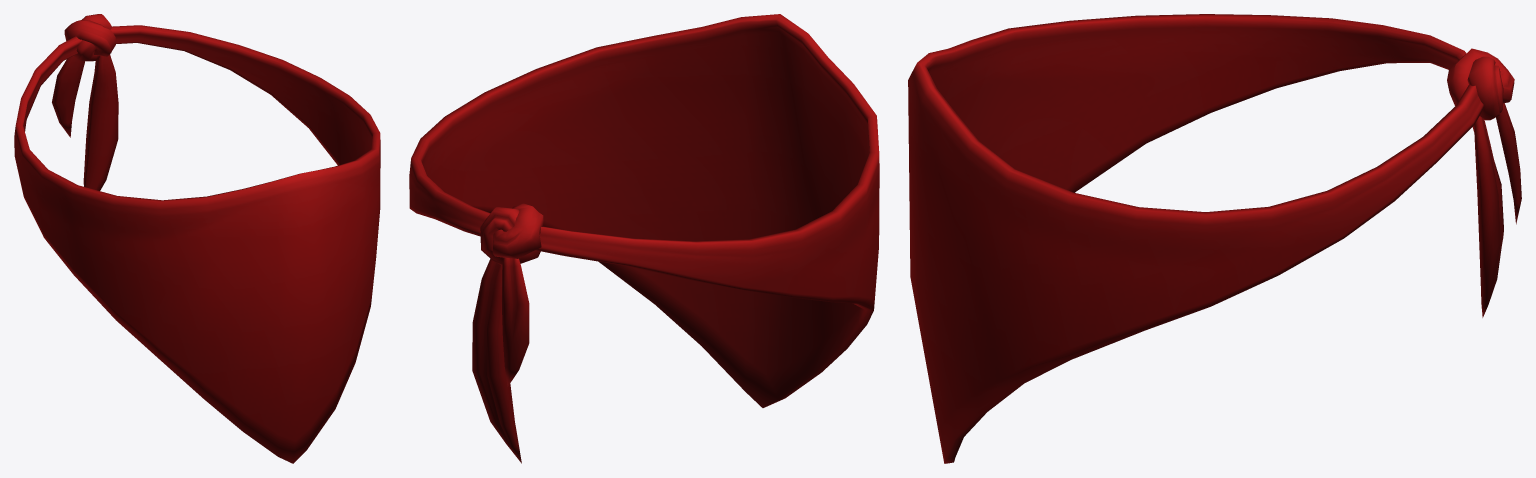
File: Bandana.FBX
3 renders of one model, left to right at view 1: azimuth 30°, elevation 25°; view 2: azimuth 150°, elevation 25°; view 3: azimuth 270°, elevation 25°, orthographic. The views are drawn at different scales.
Visible parts, largest first — view 1: Bandana; view 2: Bandana; view 3: Bandana.
Part boxes in pixels (left/top/right/bottom): Bandana: left=14, top=14, right=380, bottom=463; Bandana: left=409, top=14, right=879, bottom=463; Bandana: left=908, top=14, right=1521, bottom=463.
Bounding box in the file's own units: 58.32 × 54.71 × 74.78.
1 material, 1 textured.
